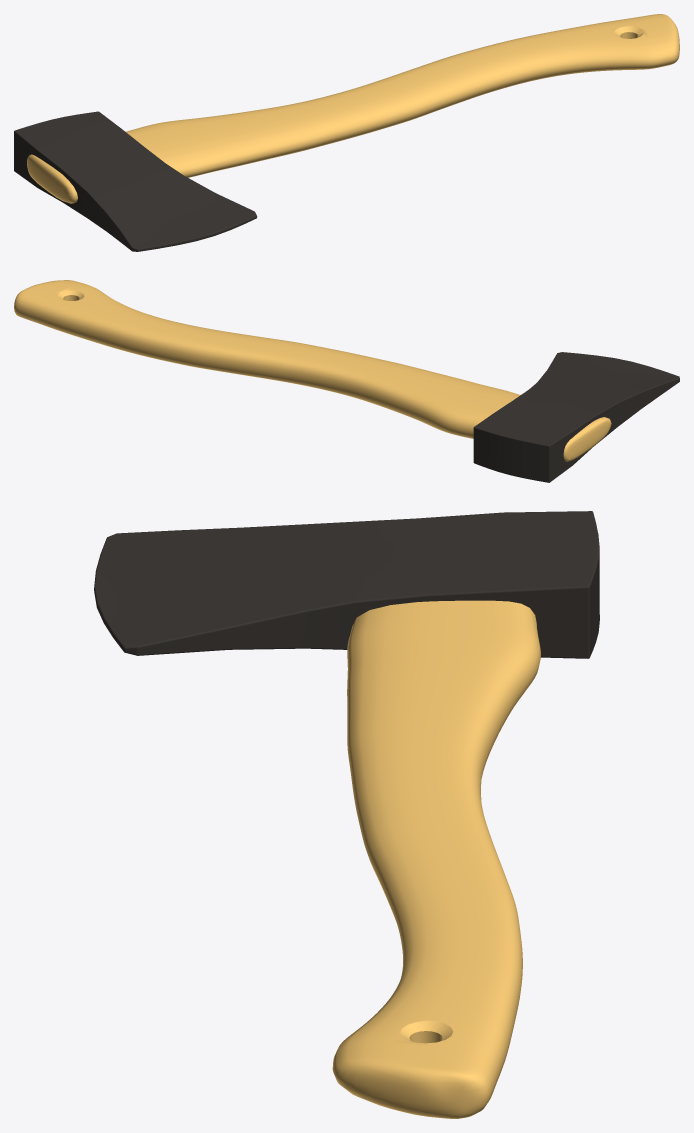
File: Hatchet.fbx
The picture shows the model from 3 angles, top to bottom: view 1: azimuth 30°, elevation 25°; view 2: azimuth 150°, elevation 25°; view 3: azimuth 270°, elevation 25°; orthographic projection. The views are drawn at different scales.
Parts seen in each view (by area): view 1: AxeHandle, AxeHead; view 2: AxeHandle, AxeHead; view 3: AxeHandle, AxeHead.
Boxes of the visible parts, left/top/right/bottom form: AxeHandle: left=27, top=14, right=679, bottom=203; AxeHead: left=14, top=111, right=257, bottom=251; AxeHandle: left=14, top=280, right=611, bottom=461; AxeHead: left=473, top=352, right=679, bottom=482; AxeHandle: left=332, top=600, right=540, bottom=1118; AxeHead: left=94, top=511, right=599, bottom=658.
Bounding box in the file's own units: 457 × 28.36 × 173.
